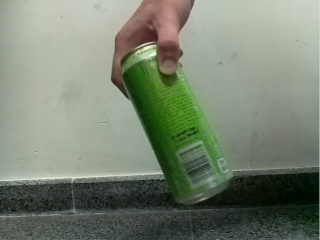botella plastico: (120, 41, 235, 206)
